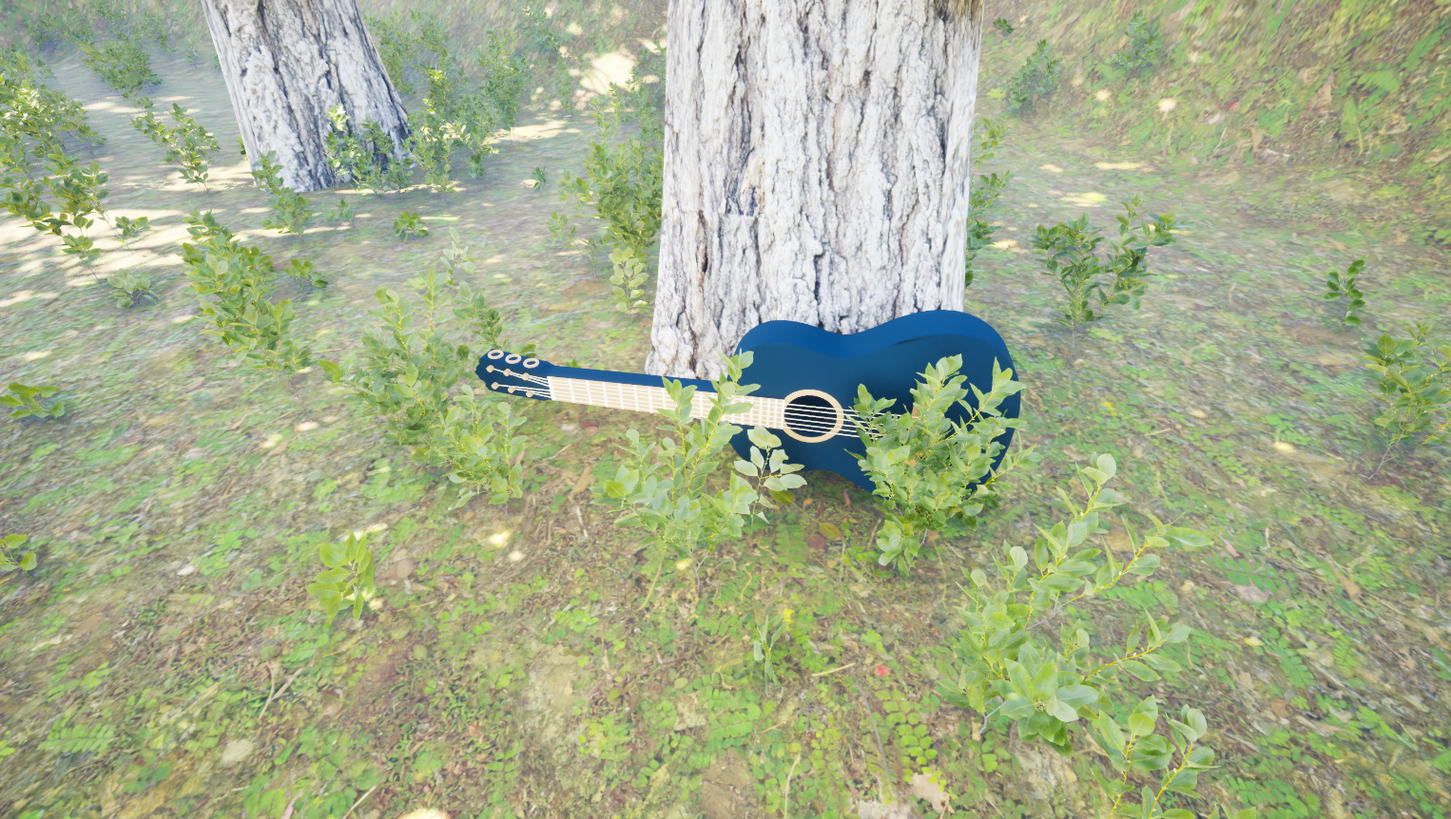Guitar: (441, 271, 1049, 518)
